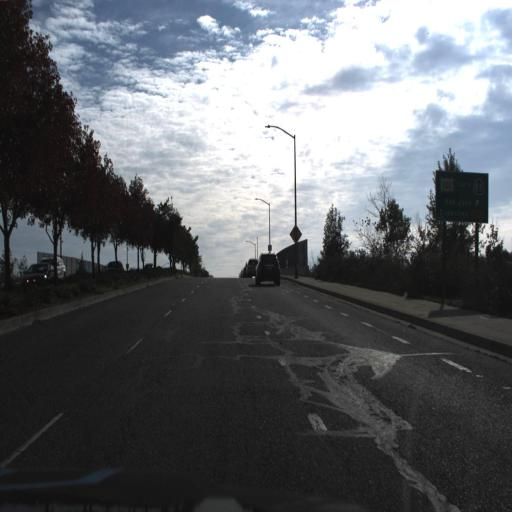car: (254, 253, 282, 286), (20, 264, 55, 290), (50, 254, 65, 279), (105, 259, 124, 273), (246, 258, 259, 275), (105, 261, 122, 271), (143, 261, 155, 271)
